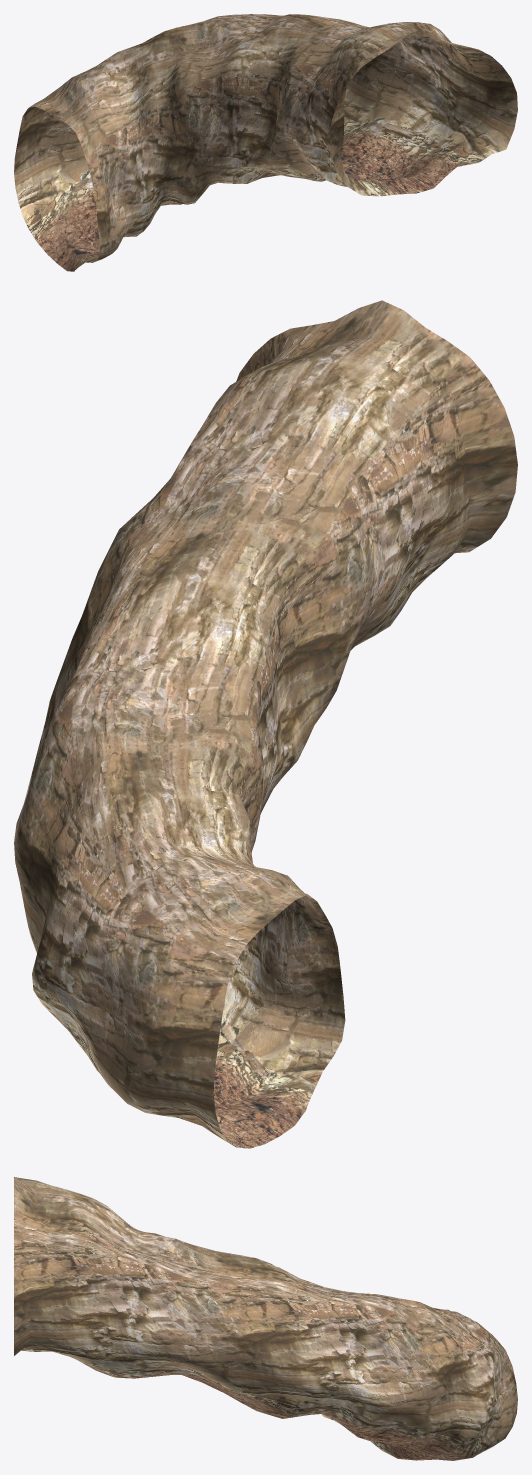
File: thm_tato_cave_s02_r8_mesh_r8.fbx
3 renders of one model, top to bottom at view 1: azimuth 30°, elevation 25°; view 2: azimuth 150°, elevation 25°; view 3: azimuth 270°, elevation 25°, orthographic. The views are drawn at different scales.
Parts seen in each view (by area): view 1: mesh_node; view 2: mesh_node; view 3: mesh_node.
Boxes of the visible parts, x1,y1,x2,y2 form: mesh_node: (14,14,517,271); mesh_node: (14,300,517,1148); mesh_node: (14,1177,517,1460).
Bounding box in the file's own units: 16.81 × 23.03 × 31.17.
